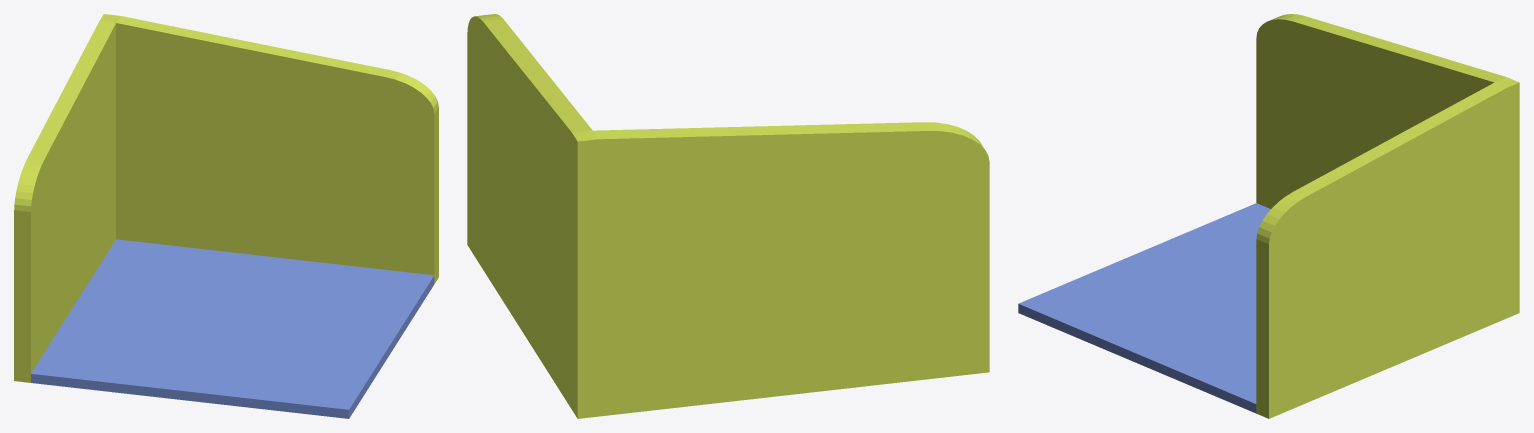
Rendered from Room.fbx.
The picture shows the model from 3 angles, left to right: view 1: azimuth 30°, elevation 25°; view 2: azimuth 150°, elevation 25°; view 3: azimuth 270°, elevation 25°; orthographic projection. The views are drawn at different scales.
Visible parts, largest first — view 1: Plane; view 2: Plane; view 3: Plane.
Part boxes in pixels (<box>): Plane: <box>14,14,438,418</box>; Plane: <box>467,14,989,418</box>; Plane: <box>1018,14,1519,418</box>.
Bounding box in the file's own units: 2698 × 1369 × 2698.
